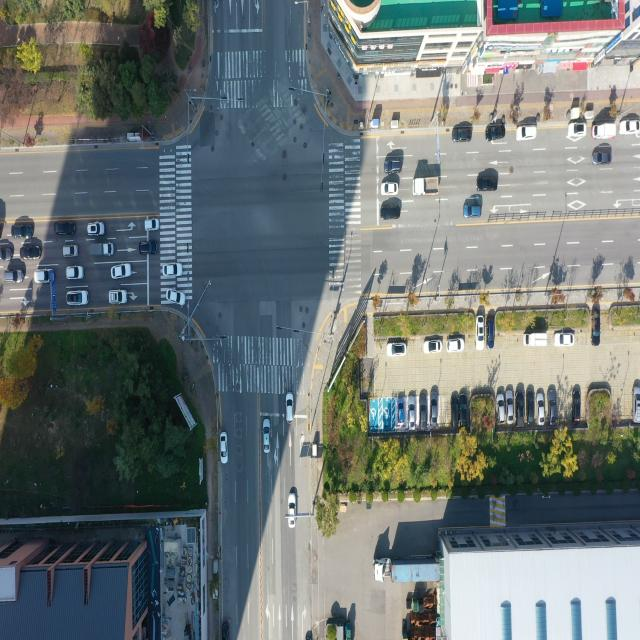car: (11, 223, 32, 240), (591, 307, 601, 342), (458, 394, 468, 428), (571, 388, 581, 422), (516, 391, 525, 428), (477, 314, 486, 350), (111, 265, 131, 281), (166, 289, 186, 305), (620, 118, 640, 134), (429, 390, 438, 424), (517, 126, 536, 142), (68, 291, 88, 306), (387, 343, 407, 358), (478, 178, 499, 192), (554, 334, 575, 348), (527, 388, 535, 424), (550, 390, 558, 426), (423, 340, 442, 355), (486, 127, 505, 142), (56, 222, 76, 236), (22, 246, 42, 260), (109, 290, 129, 304), (264, 418, 272, 452), (288, 488, 296, 522), (593, 151, 611, 166), (164, 264, 182, 279), (140, 242, 159, 256), (420, 393, 428, 426), (285, 396, 294, 425), (487, 317, 495, 349), (448, 339, 465, 354), (568, 123, 585, 138), (463, 205, 481, 219), (35, 271, 53, 285), (536, 392, 544, 423), (409, 399, 417, 430), (451, 394, 459, 425), (220, 433, 228, 464), (396, 399, 405, 425), (505, 389, 512, 422), (381, 208, 400, 220), (90, 222, 106, 236), (497, 392, 504, 423), (634, 388, 640, 424), (67, 268, 83, 281), (5, 272, 22, 284), (382, 182, 399, 194), (454, 132, 472, 143), (146, 217, 160, 231), (219, 620, 228, 640), (64, 246, 78, 258), (385, 164, 401, 174), (0, 249, 12, 261)
large_truck: (373, 557, 441, 585)
small_truck: (412, 176, 440, 196), (592, 124, 615, 141), (524, 332, 546, 348), (92, 243, 114, 257)
